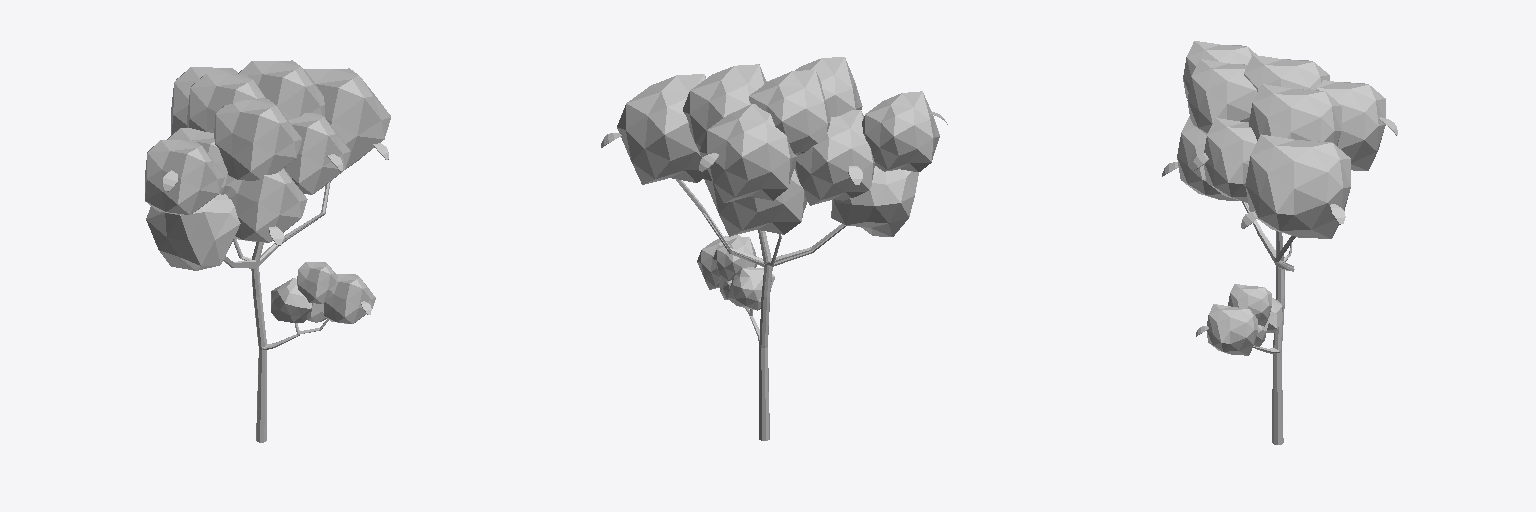
Rendered from tree3.obj.
3 renders of one model, left to right at view 1: azimuth 30°, elevation 25°; view 2: azimuth 150°, elevation 25°; view 3: azimuth 270°, elevation 25°, orthographic.
Visible parts, largest first — view 1: Tree_11_Tree_11_Cylinder.013; view 2: Tree_11_Tree_11_Cylinder.013; view 3: Tree_11_Tree_11_Cylinder.013.
Part boxes in pixels (x1,y1,x2,y2): Tree_11_Tree_11_Cylinder.013: (145, 60, 390, 442); Tree_11_Tree_11_Cylinder.013: (601, 57, 947, 440); Tree_11_Tree_11_Cylinder.013: (1162, 41, 1397, 444).
Bounding box in the file's own units: 3.36 × 4.31 × 2.5.